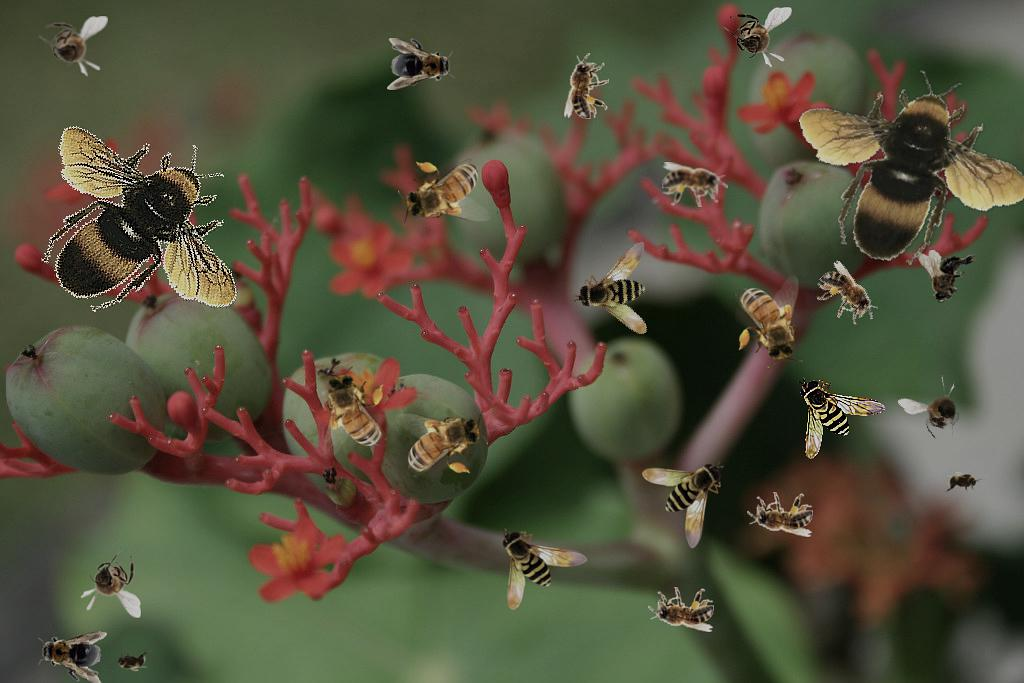Bee: (8, 101, 282, 356), (794, 57, 1024, 278), (569, 224, 687, 344), (894, 363, 987, 457), (798, 377, 886, 459), (500, 528, 588, 610), (642, 461, 724, 549), (319, 366, 387, 459), (395, 409, 488, 477), (735, 275, 803, 368), (398, 158, 491, 226), (808, 258, 888, 335), (38, 16, 108, 77), (80, 548, 141, 618), (722, 7, 792, 68), (34, 626, 108, 683), (915, 249, 980, 305), (387, 38, 455, 90), (648, 587, 714, 632), (662, 162, 728, 207), (747, 492, 813, 537), (564, 53, 609, 119), (111, 650, 151, 672), (943, 471, 983, 493)
